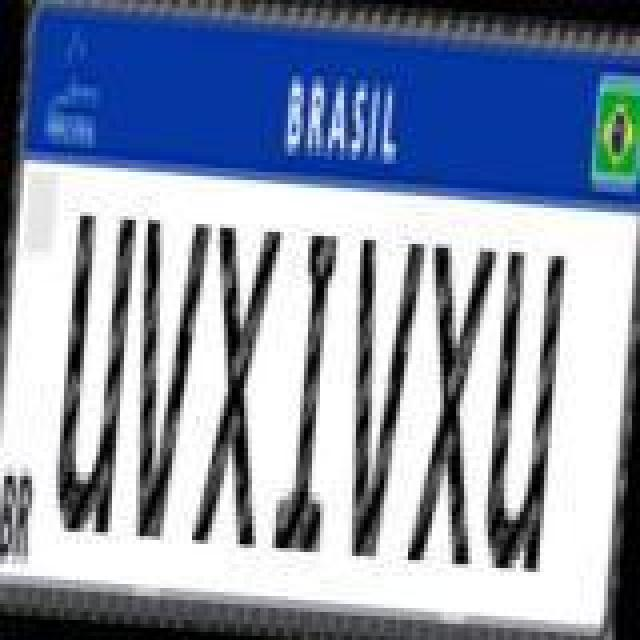I: (274, 226, 350, 558)
U: (478, 244, 570, 580), (50, 210, 142, 542)
V: (120, 218, 216, 550), (332, 234, 428, 566)
X: (404, 242, 500, 574), (190, 222, 282, 554)
